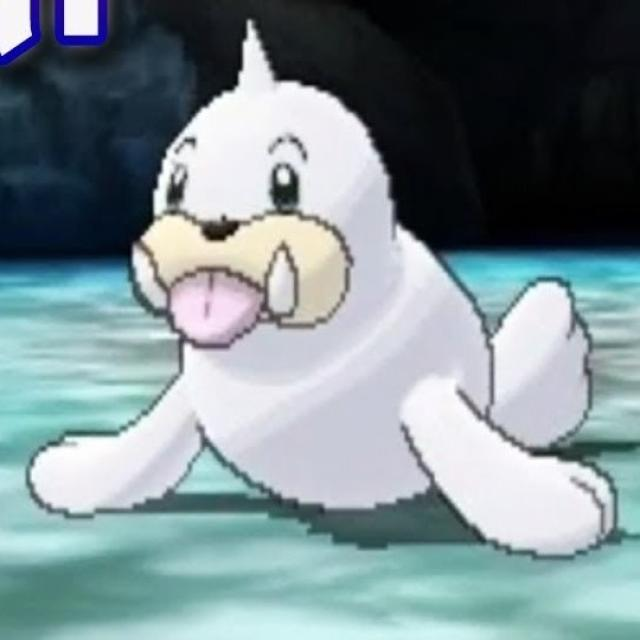Seel: (98, 68, 572, 526)
